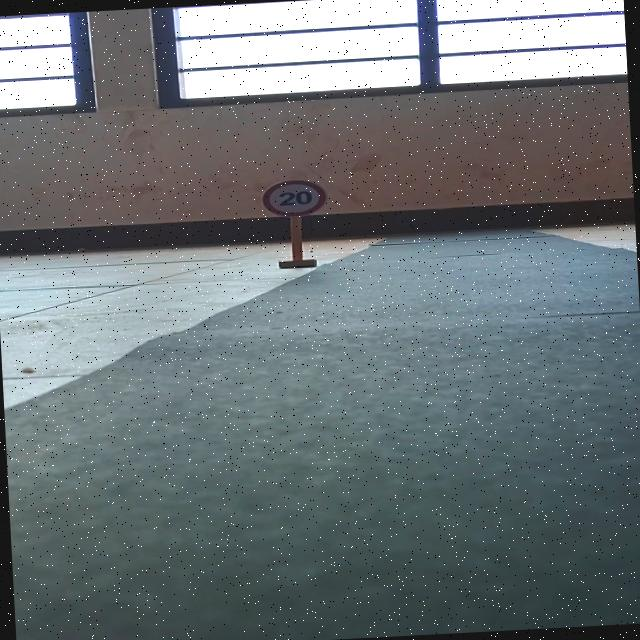Speed20: (254, 176, 331, 222)
